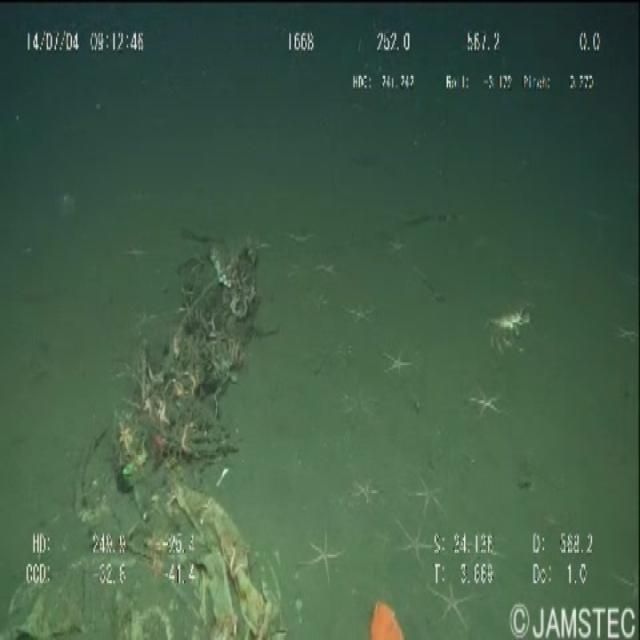Accessories: (0, 475, 302, 640)
Natual-Debris: (100, 207, 264, 499)
